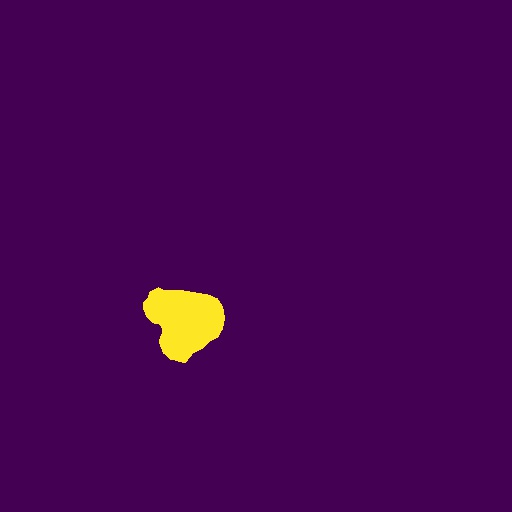Menigiomia_tumour: (143, 287, 225, 363)
